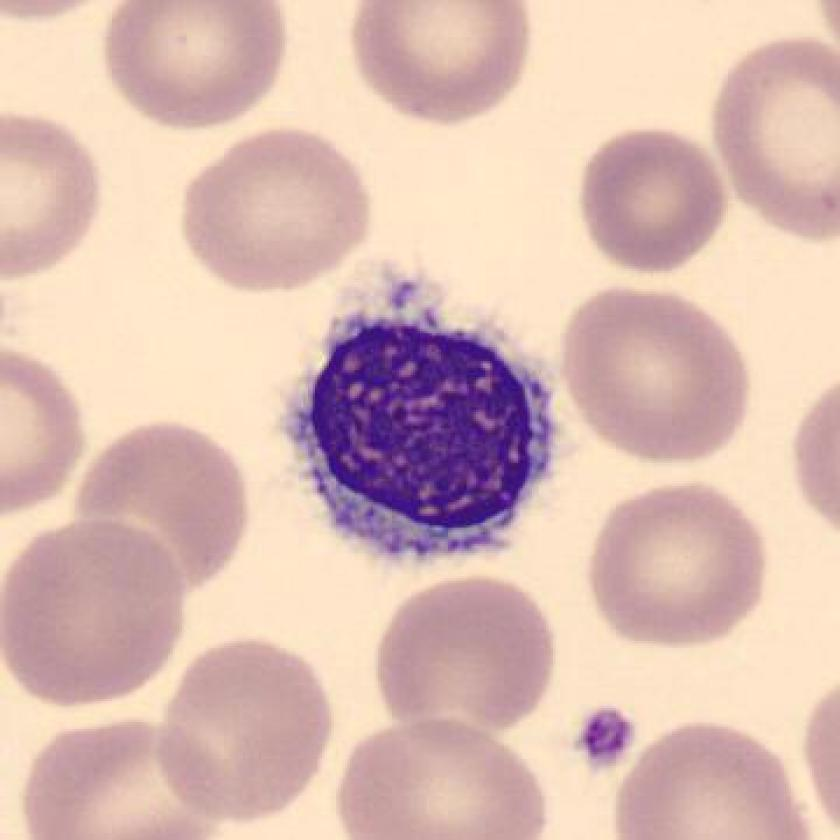lymphocyte: (267, 258, 575, 570)
